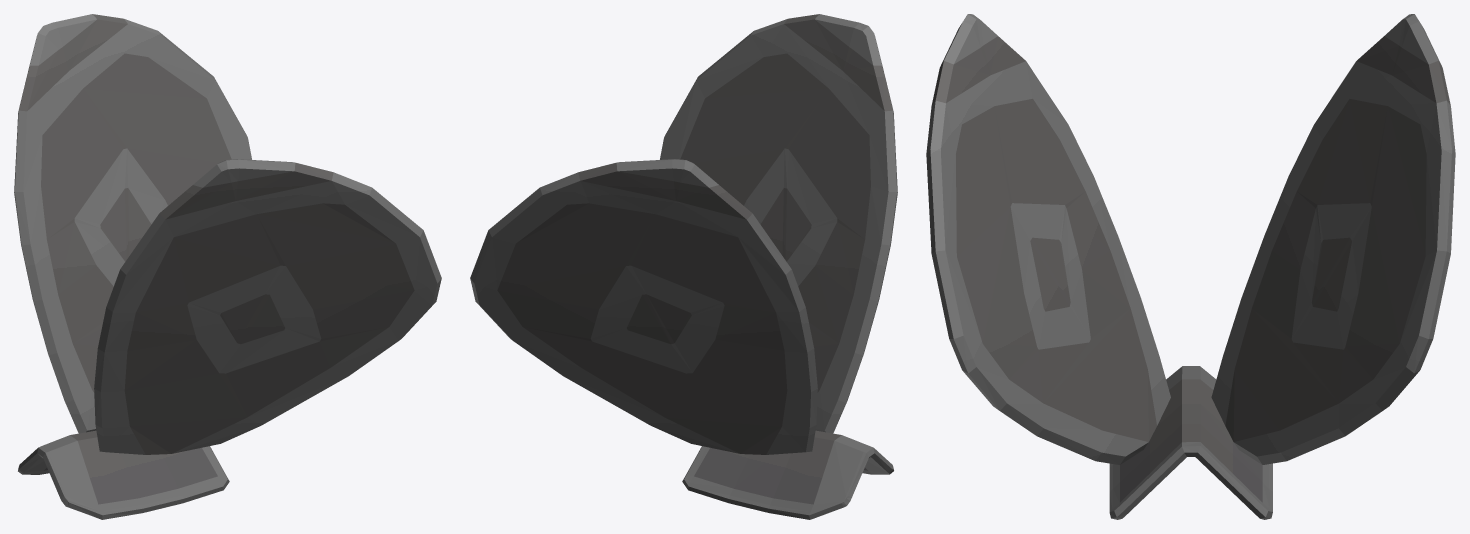
Rendered from CharSkyKid_Prop_ColorKiteButterfly.glb.
The picture shows the model from 3 angles, left to right: view 1: azimuth 30°, elevation 25°; view 2: azimuth 150°, elevation 25°; view 3: azimuth 270°, elevation 25°; orthographic projection. The views are drawn at different scales.
Visible parts, largest first — view 1: CharSkyKid_Prop_ColorKiteButterfly; view 2: CharSkyKid_Prop_ColorKiteButterfly; view 3: CharSkyKid_Prop_ColorKiteButterfly.
Part boxes in pixels (box(x1,y1,x2,y2)): CharSkyKid_Prop_ColorKiteButterfly: box(14, 14, 441, 519); CharSkyKid_Prop_ColorKiteButterfly: box(470, 14, 897, 519); CharSkyKid_Prop_ColorKiteButterfly: box(926, 14, 1455, 519).
Size of the model in its own units: 3.48 by 4.27 by 4.3.
1 material, 1 textured.
